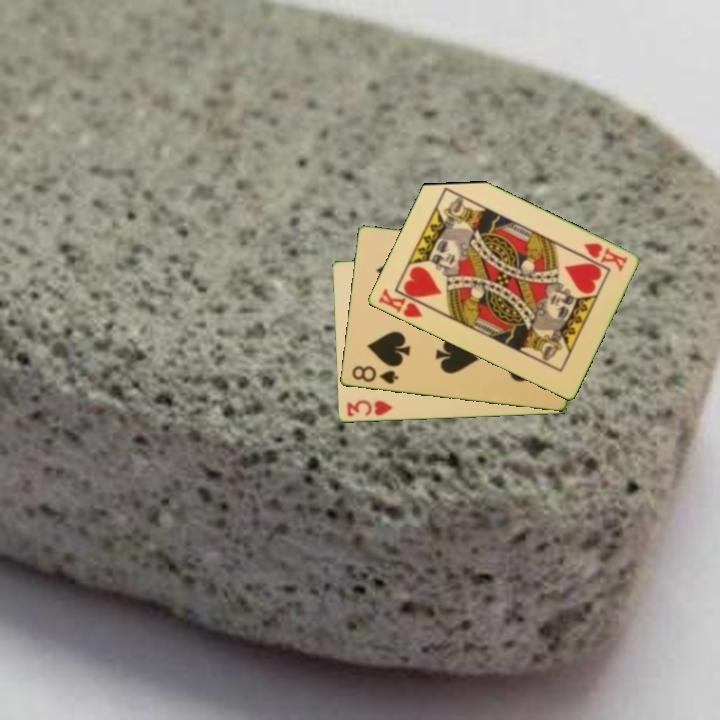3h: (343, 397, 395, 420)
8s: (348, 362, 401, 387)
Kh: (374, 285, 432, 321), (580, 239, 630, 274)
